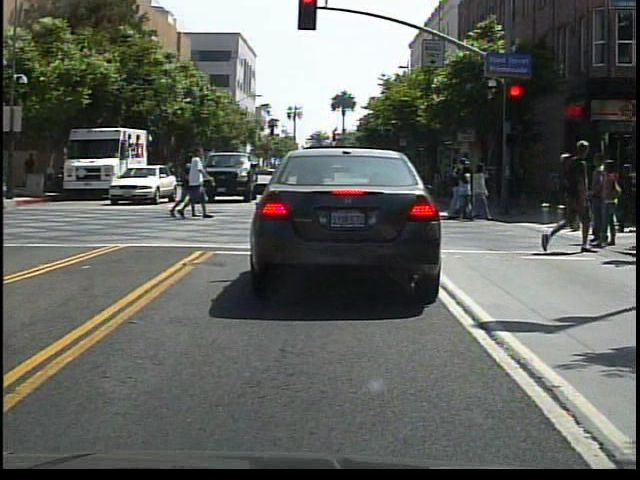person: (546, 135, 610, 263), (557, 155, 592, 235), (176, 150, 212, 227), (296, 155, 330, 215)
